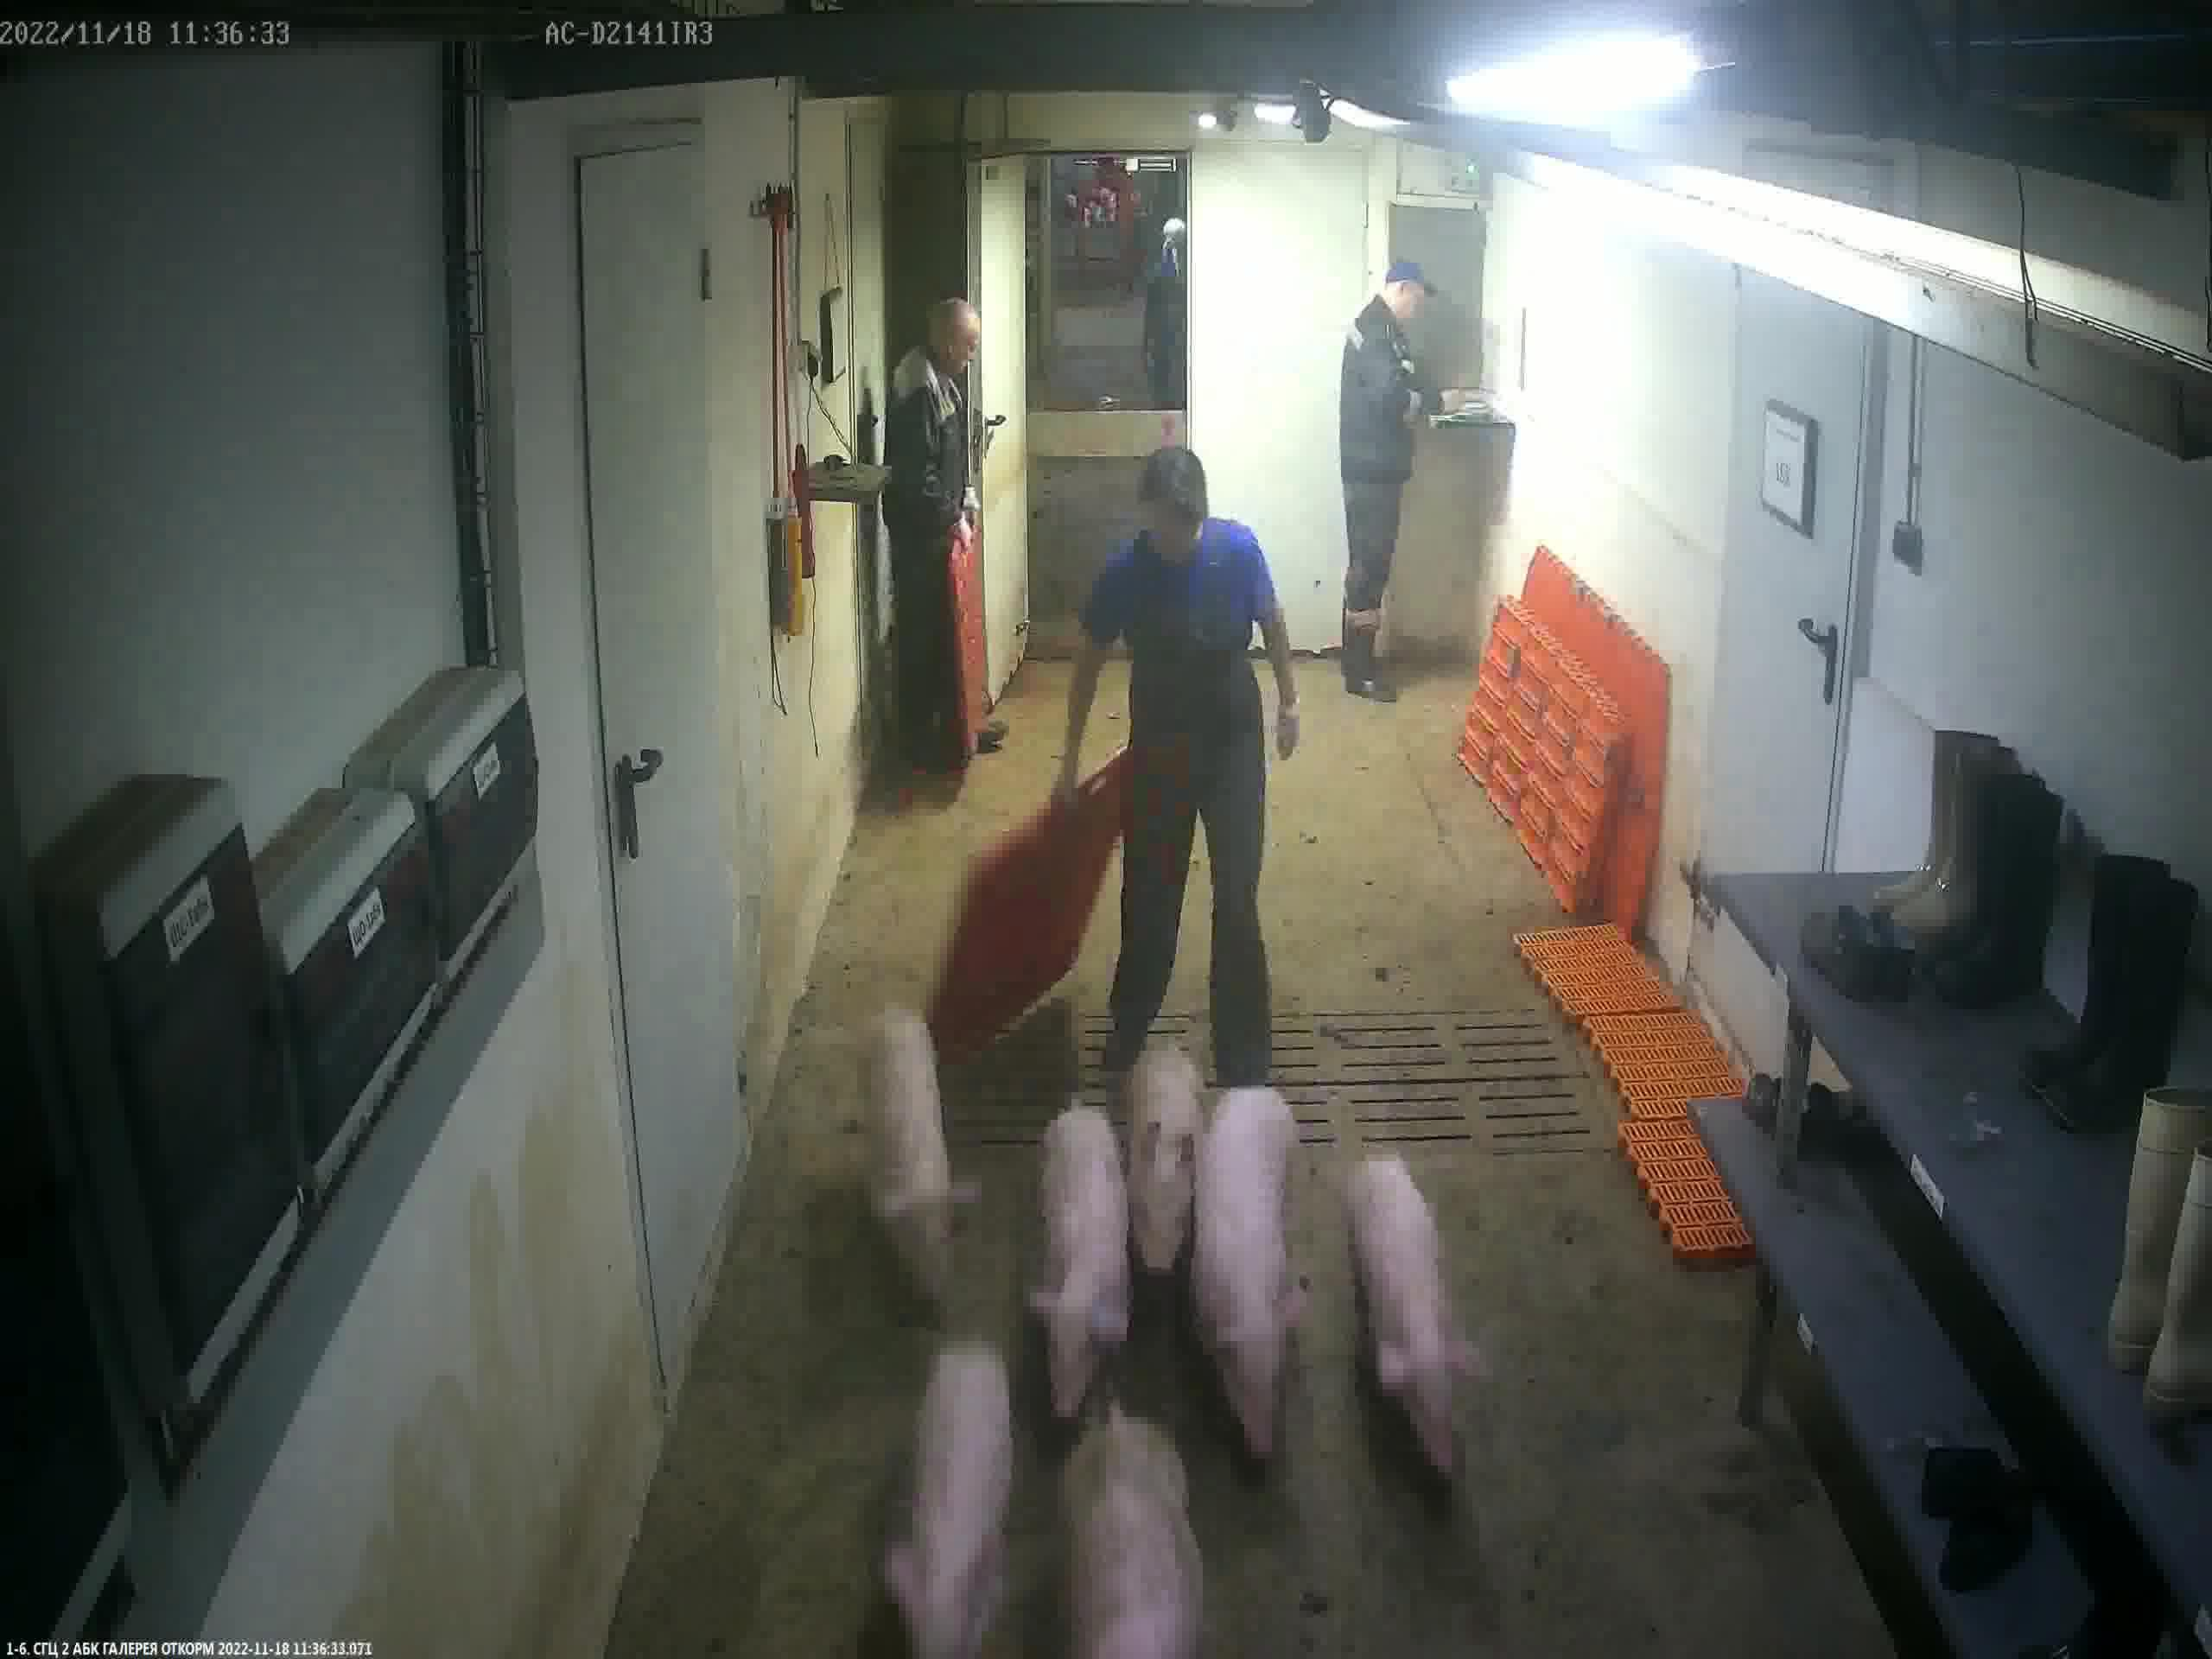Pigs: (1345, 1154, 1480, 1532), (880, 1340, 1015, 1657), (1195, 1087, 1299, 1467), (1026, 1107, 1129, 1431), (1076, 1410, 1209, 1659), (867, 1011, 965, 1309), (1130, 1039, 1211, 1288)
